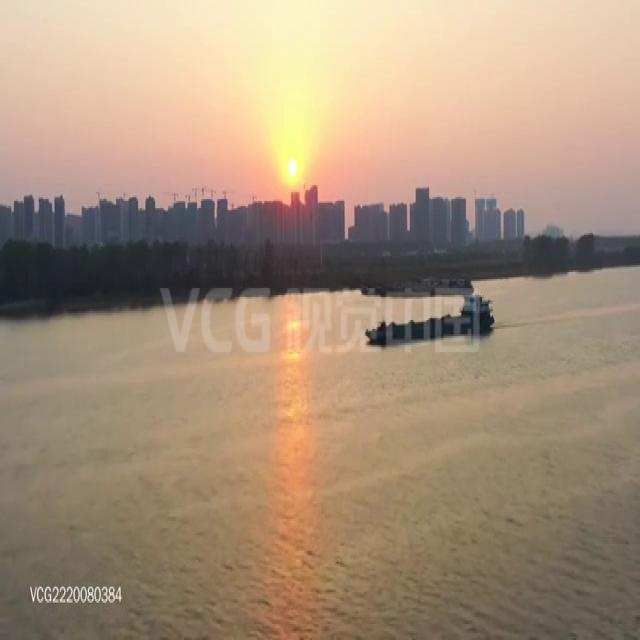cargoship: (365, 296, 494, 354)
